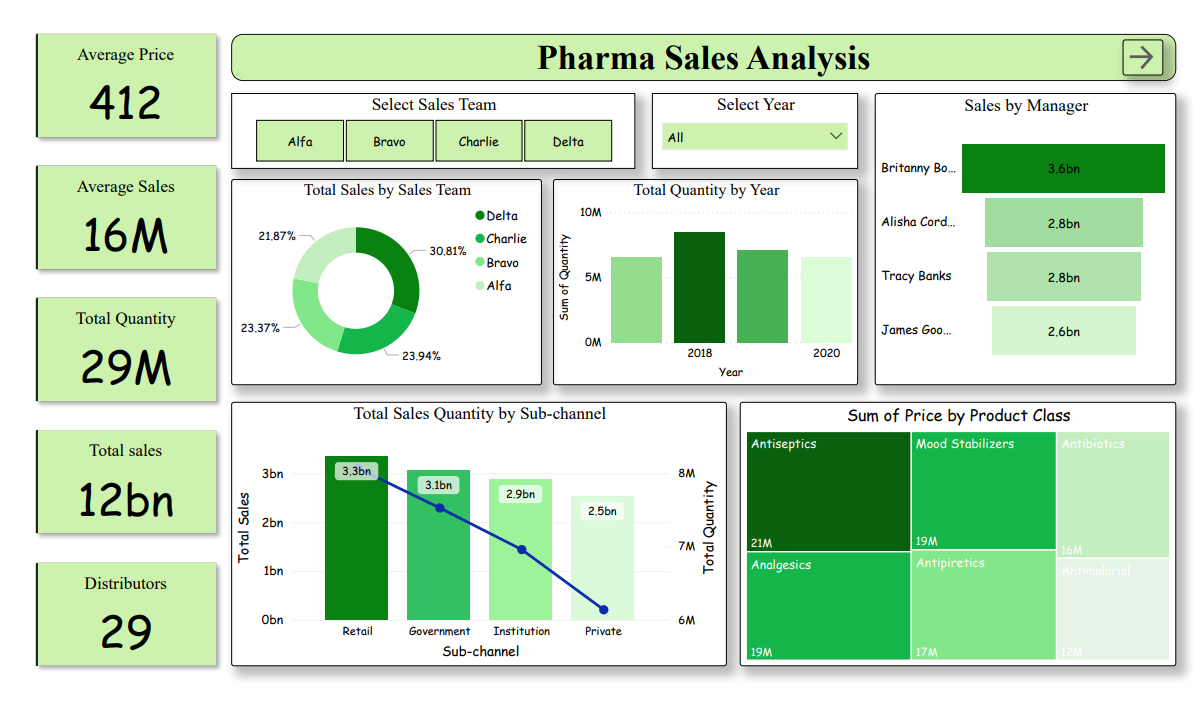

What the dashboard file says about the page in this screenshot:
{"tool":"powerbi","page":{"name":"Page 1","canvas":[1280,720],"ordinal":0},"visuals":[{"type":"cardVisual","fields":{"Data":["Mesures table.Avg price per product","Mesures table.Avg sales per customer","Mesures table.Total Quantity","Mesures table.Total sales","pharma-data.Distributor"]},"box":[11.3,0,228.1,721.2],"z":0},{"type":"clusteredColumnChart","title":"Total Quantity by Year","fields":{"Category":["pharma-data.Year"],"Y":["pharma-data.Quantity"]},"box":[586.6,174.3,330.1,222.5],"z":1000},{"type":"lineStackedColumnComboChart","title":"Total Sales Quantity by Sub-channel","fields":{"Y":["pharma-data.Sales"],"Y2":["pharma-data.Quantity"],"Category":["pharma-data.Sub-channel"]},"box":[239.5,415.1,535.6,286.2],"z":2000},{"type":"donutChart","title":"Total Sales by Sales Team","fields":{"Category":["pharma-data.Sales Team"],"Y":["pharma-data.Sales"]},"box":[239.5,174.3,335.8,222.5],"z":3000},{"type":"treemap","fields":{"Group":["pharma-data.Product Class"],"Values":["pharma-data.Price"]},"box":[789.2,415.1,471.8,286.2],"z":4000},{"type":"shape","box":[239.5,17,1021.6,51],"z":5000},{"type":"slicer","title":"Select Sales Team","fields":{"Values":["pharma-data.Sales Team"]},"box":[239.5,80.8,436.4,82.2],"z":6000},{"type":"slicer","title":"Select Year","fields":{"Values":["pharma-data.Year"]},"box":[694.3,80.8,222.5,82.2],"z":7000},{"type":"funnel","title":"Sales by Manager","fields":{"Y":["pharma-data.Sales"],"Category":["pharma-data.Manager"]},"box":[935.1,80.8,325.9,316],"z":8000},{"type":"actionButton","box":[1202.9,22.7,43.9,39.7],"z":9000}]}

Visuals, with their boxes in screenshot pixels (x1, y1, x2, y2):
cardVisual - Mesures table.Avg price per product x Mesures table.Avg sales per customer: box(17, 16, 228, 684)
"Total Quantity by Year" clusteredColumnChart: box(550, 177, 856, 383)
"Total Sales Quantity by Sub-channel" lineStackedColumnComboChart: box(228, 400, 725, 666)
"Total Sales by Sales Team" donutChart: box(228, 177, 539, 383)
treemap - pharma-data.Product Class x pharma-data.Price: box(738, 400, 1175, 666)
shape: box(228, 31, 1175, 79)
"Select Sales Team" slicer: box(228, 91, 633, 167)
"Select Year" slicer: box(650, 91, 856, 167)
"Sales by Manager" funnel: box(873, 91, 1175, 383)
actionButton: box(1121, 37, 1162, 73)
